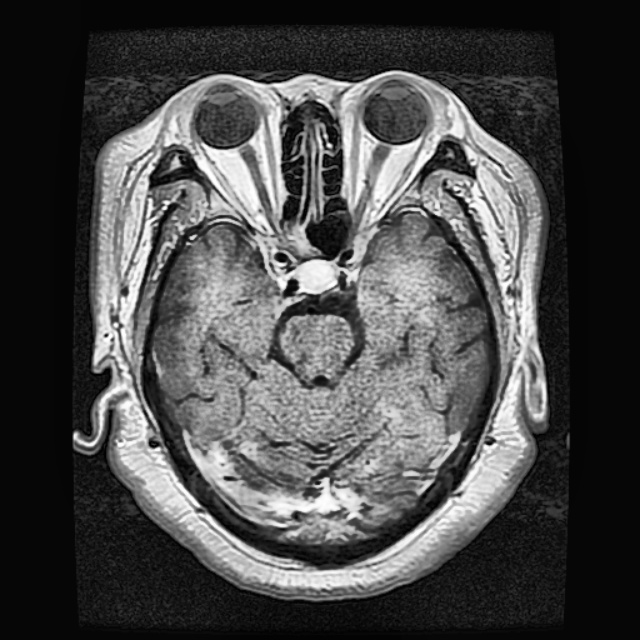Pituitary: (295, 262, 334, 290)
